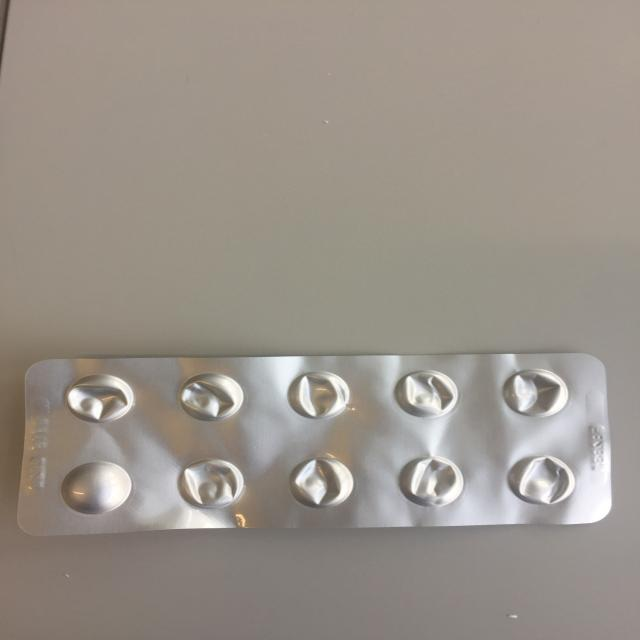Empty: (170, 367, 248, 426), (503, 449, 578, 508), (396, 450, 469, 510), (58, 370, 136, 426), (174, 454, 248, 513), (498, 363, 574, 420), (286, 452, 358, 512), (282, 367, 356, 422), (391, 366, 462, 419)
Pill: (54, 456, 136, 518)
